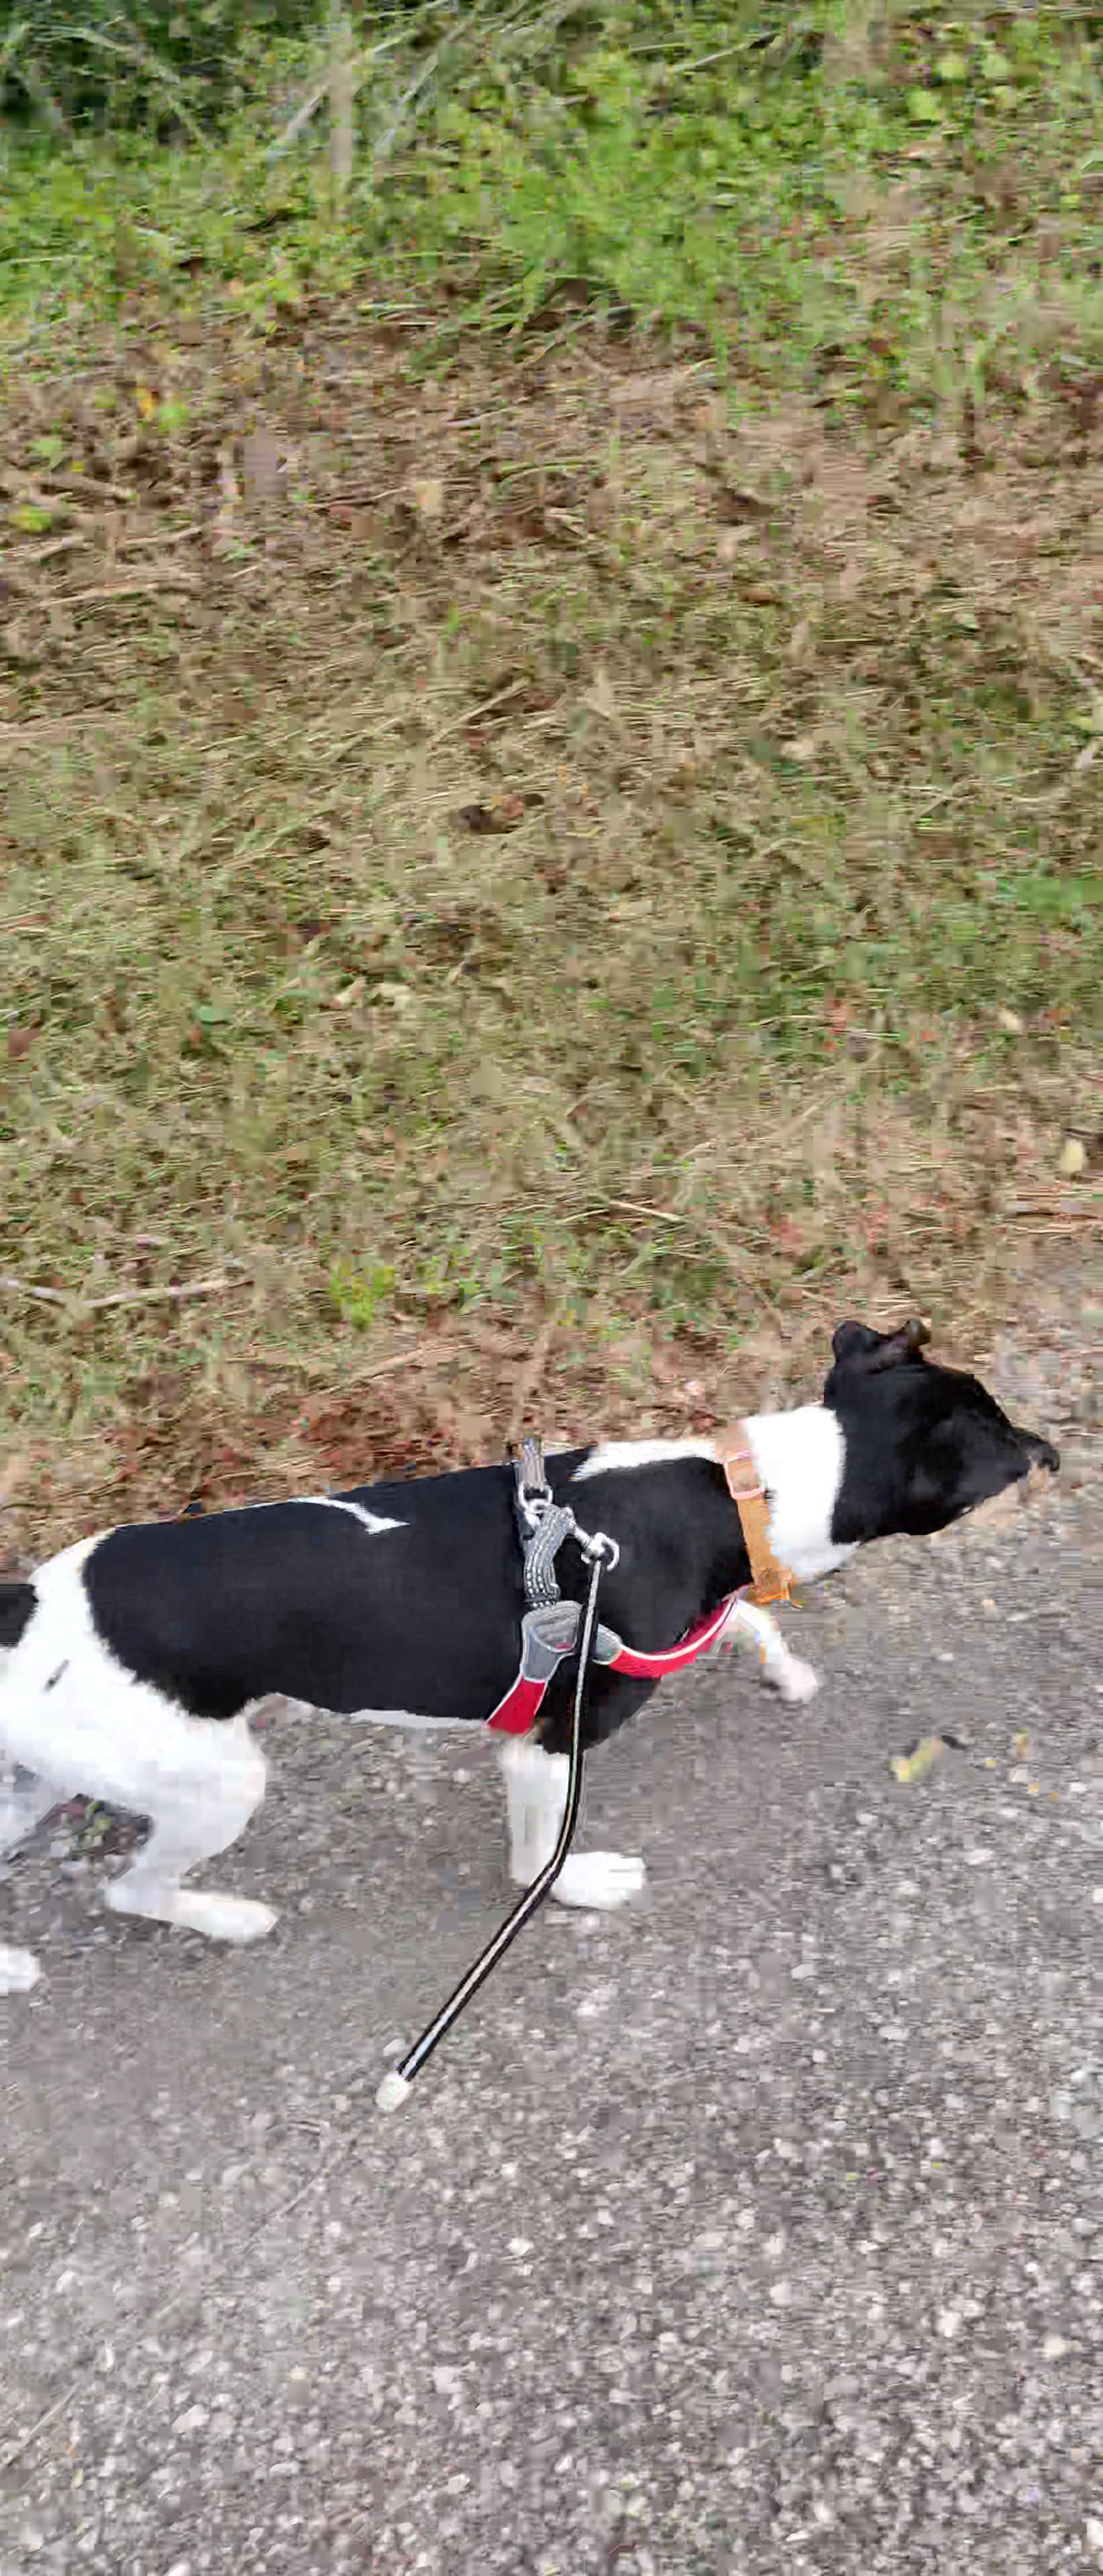Dog: (0, 1303, 1085, 2006)
